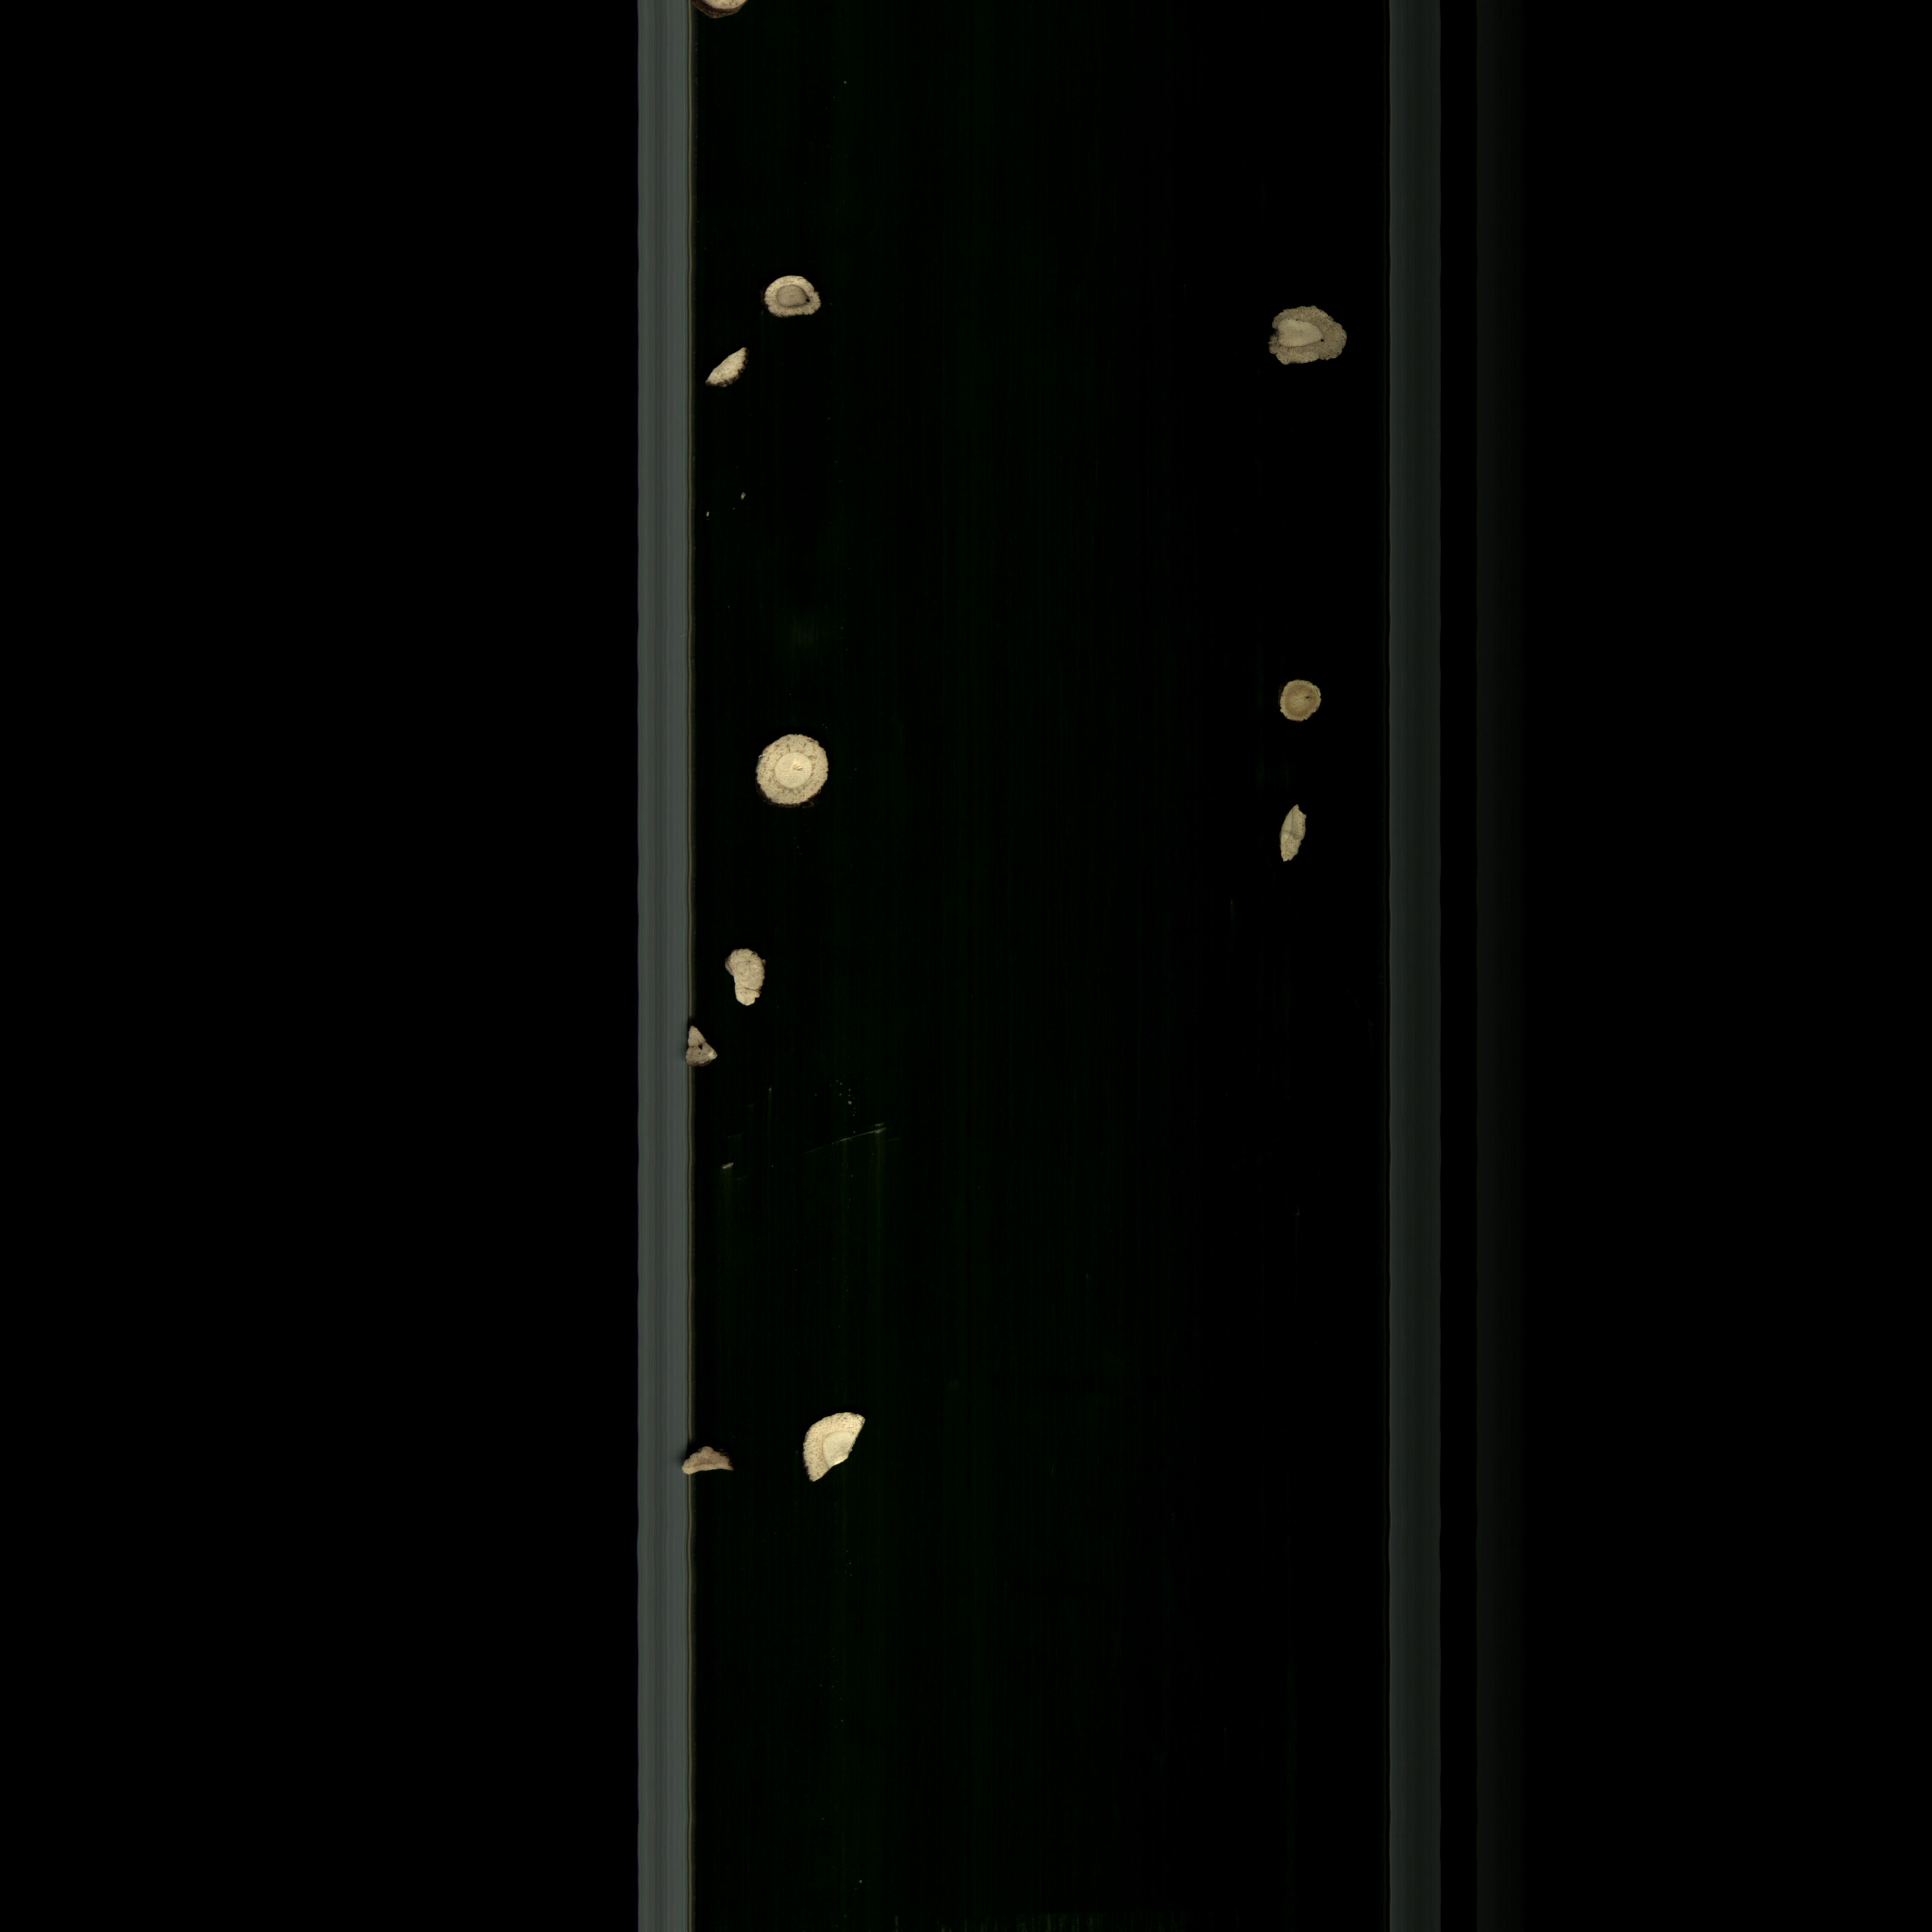debris: (796, 1398, 869, 1490), (725, 932, 780, 1023)
dreg: (1270, 798, 1313, 879), (674, 1444, 750, 1477), (681, 1026, 729, 1074), (709, 345, 755, 395)
moldy: (1261, 295, 1361, 373), (743, 271, 835, 324), (1276, 671, 1343, 725)
